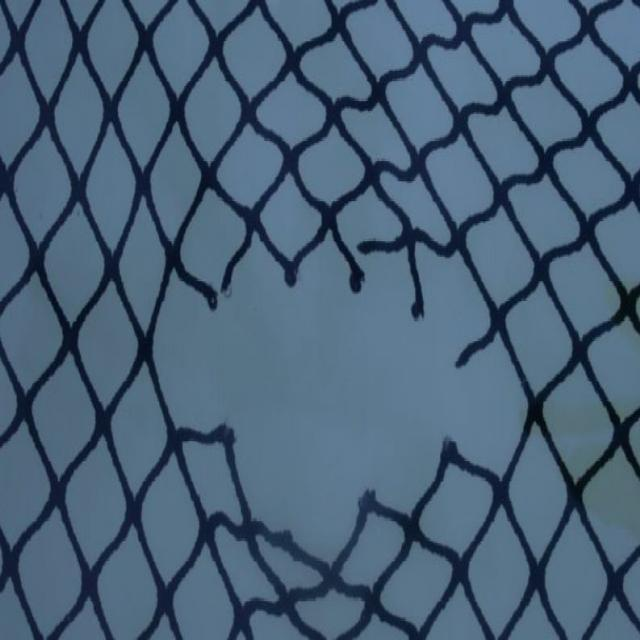fence line: (151, 210, 536, 558)
